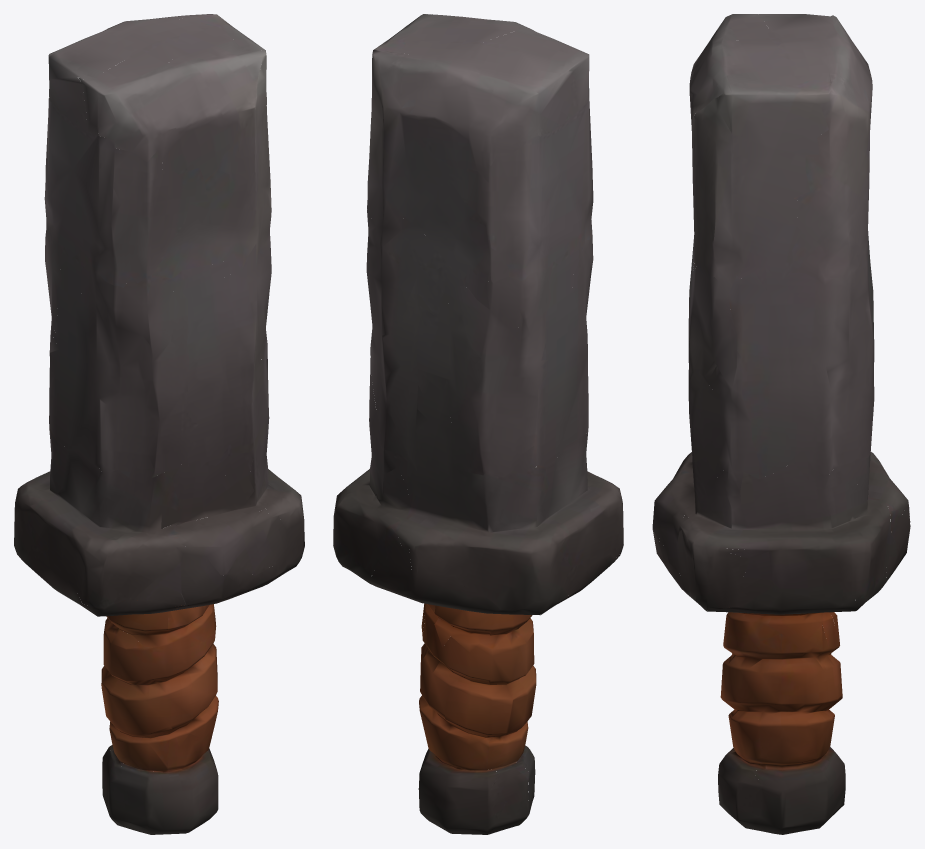
File: Arm_cleaver-D1otZ8D0.glb
The picture shows the model from 3 angles, left to right: view 1: azimuth 30°, elevation 25°; view 2: azimuth 150°, elevation 25°; view 3: azimuth 270°, elevation 25°; orthographic projection.
Visible parts, largest first — view 1: Arm_cleaver; view 2: Arm_cleaver; view 3: Arm_cleaver.
Part boxes in pixels (x1,y1,x2,y2): Arm_cleaver: (14, 14, 304, 834); Arm_cleaver: (333, 14, 623, 834); Arm_cleaver: (652, 14, 910, 834).
Size of the model in its own units: 0.3536 by 1.2 by 0.3643.
1 material, 1 textured.
